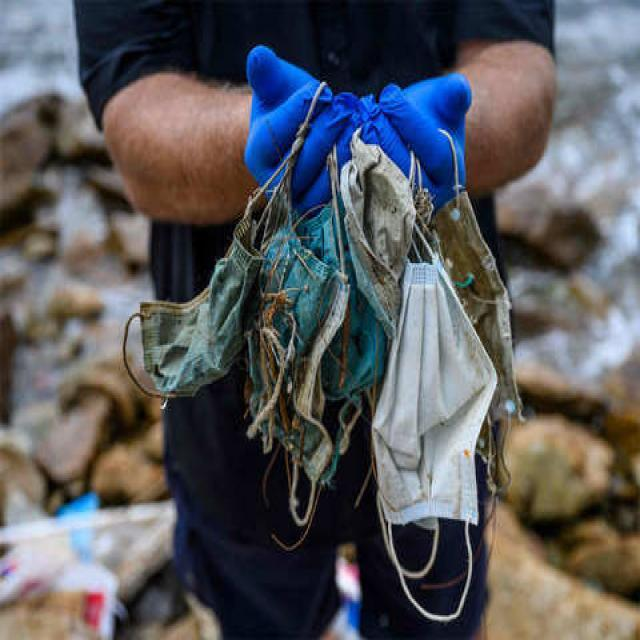face mask: (366, 136, 518, 614), (115, 140, 292, 420)
